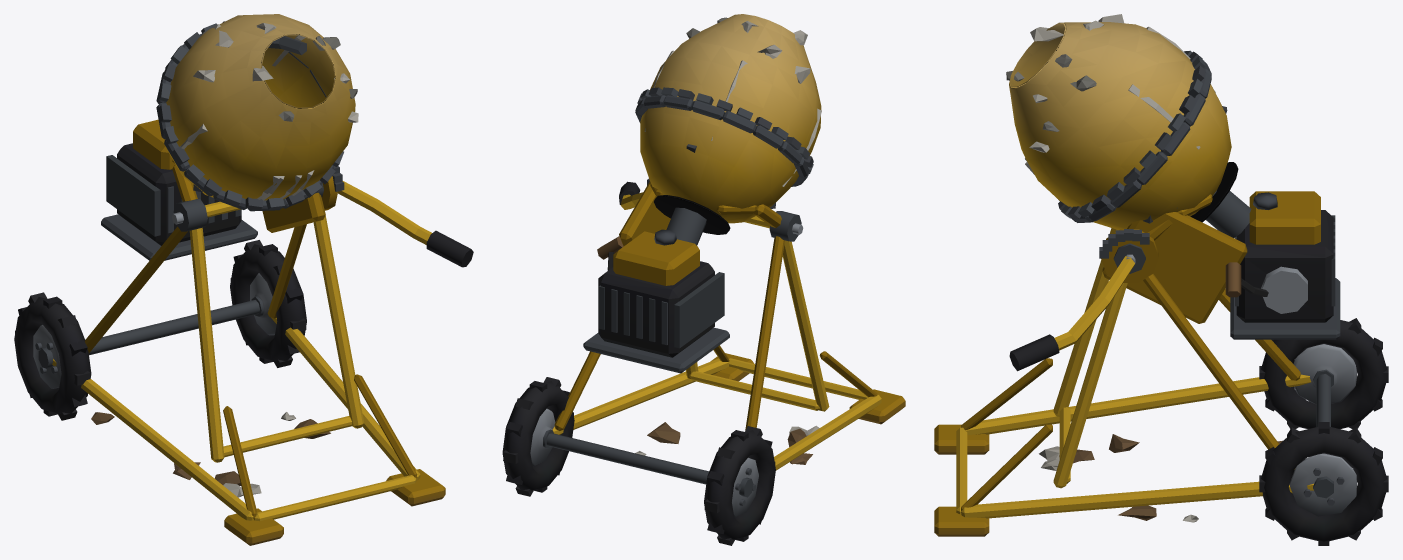
Rendered from cement-mixer.glb.
3 renders of one model, left to right at view 1: azimuth 30°, elevation 25°; view 2: azimuth 150°, elevation 25°; view 3: azimuth 270°, elevation 25°, orthographic. The views are drawn at different scales.
Visible parts, largest first — view 1: cement_mixer; view 2: cement_mixer; view 3: cement_mixer.
Part boxes in pixels (bbox=[...]): cement_mixer: bbox=[14, 14, 473, 545]; cement_mixer: bbox=[502, 14, 905, 545]; cement_mixer: bbox=[934, 14, 1388, 545].
Bounding box in the file's own units: 1.06 × 1.59 × 1.41.
